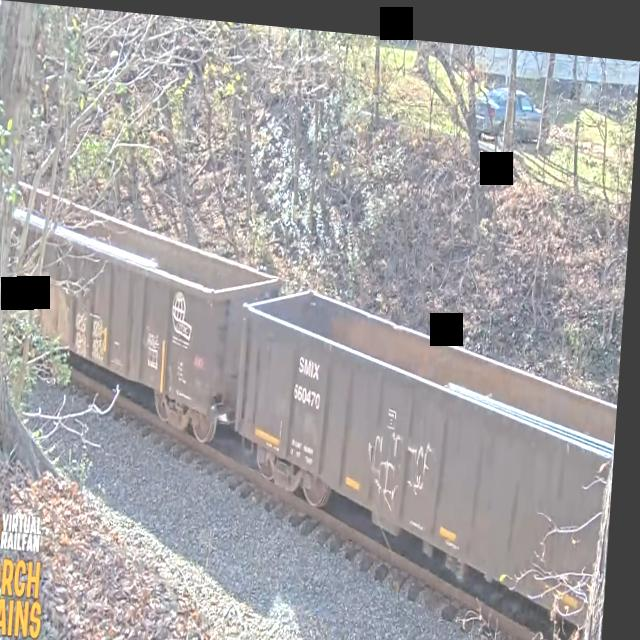gondola: (225, 261, 627, 640), (7, 170, 267, 457)
